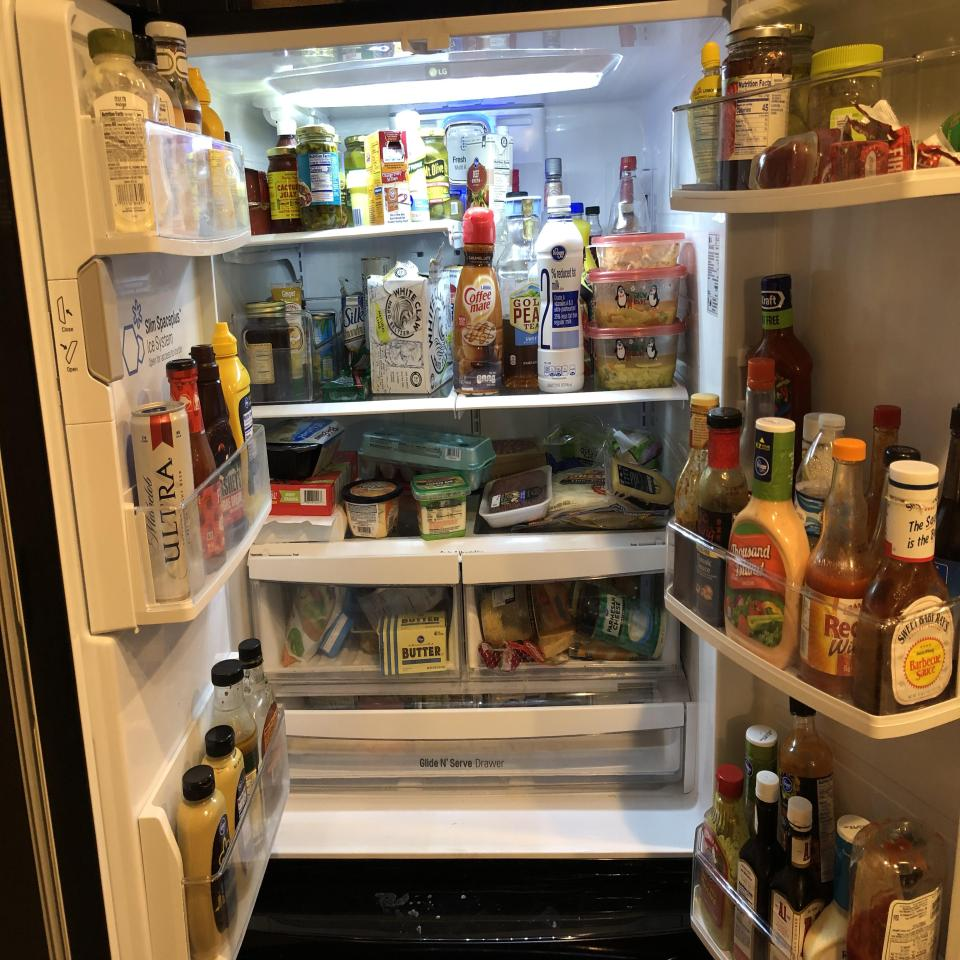Huevos: (357, 424, 495, 491)
Leche: (535, 196, 585, 392)
Mantequilla: (378, 612, 449, 676)
Queso: (610, 457, 675, 511)
